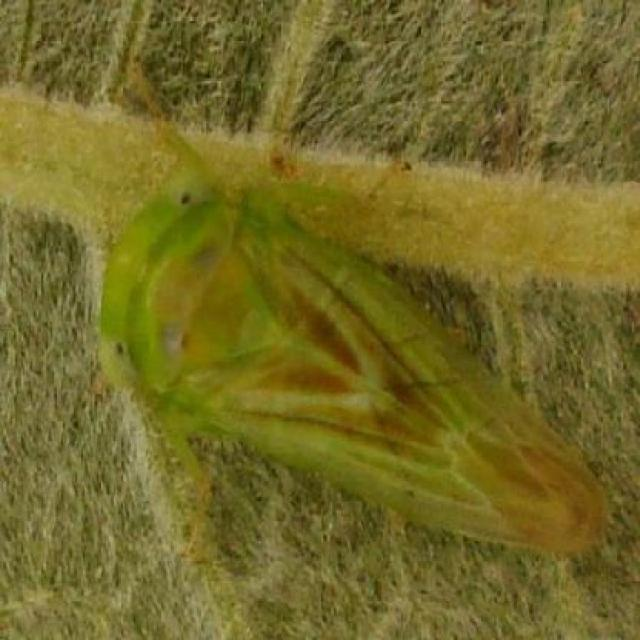green-leafhopper: (95, 56, 609, 567)
